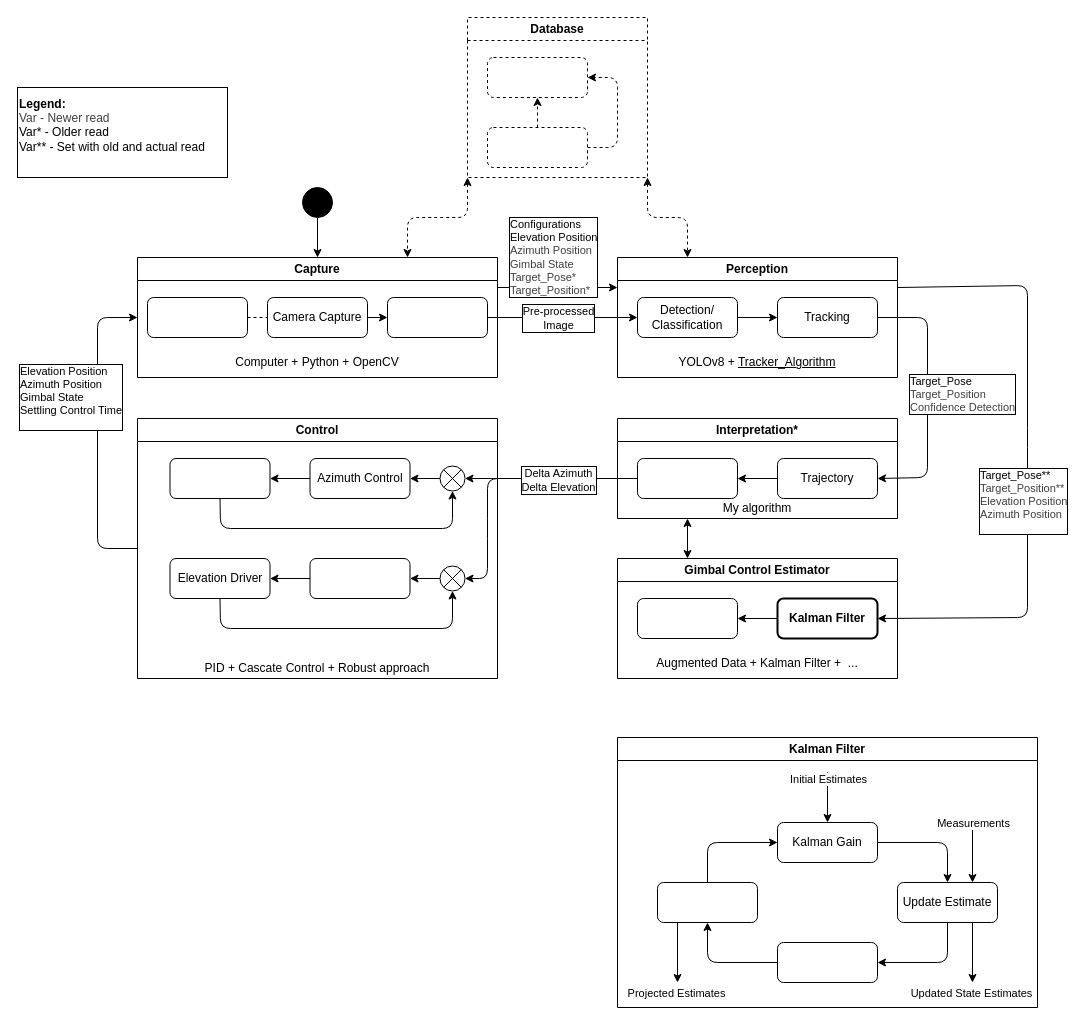
Some shapes in this 1086 by 1025 pixel diagram are drawn without their labels. The centre of each missing label's shape, as x and y in pixels:
"Azimuth Driver" goes at [219,478].
"Configuration & Actual Data" goes at [197,317].
"Elevation Control" goes at [359,578].
"Post-Processing" goes at [687,618].
"Pre-processing" goes at [437,317].
"Project k+1" goes at [707,902].
"Projection/ Movement" goes at [687,478].
"Update Covariance" goes at [827,962].
